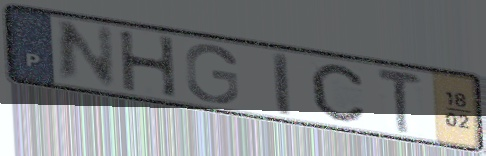C: (308, 62, 368, 125)
G: (182, 43, 242, 106)
H: (115, 29, 180, 100)
I: (270, 50, 295, 119)
N: (54, 18, 119, 88)
T: (374, 65, 426, 137)
